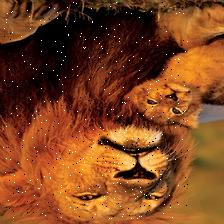Lion: (0, 0, 187, 219)
